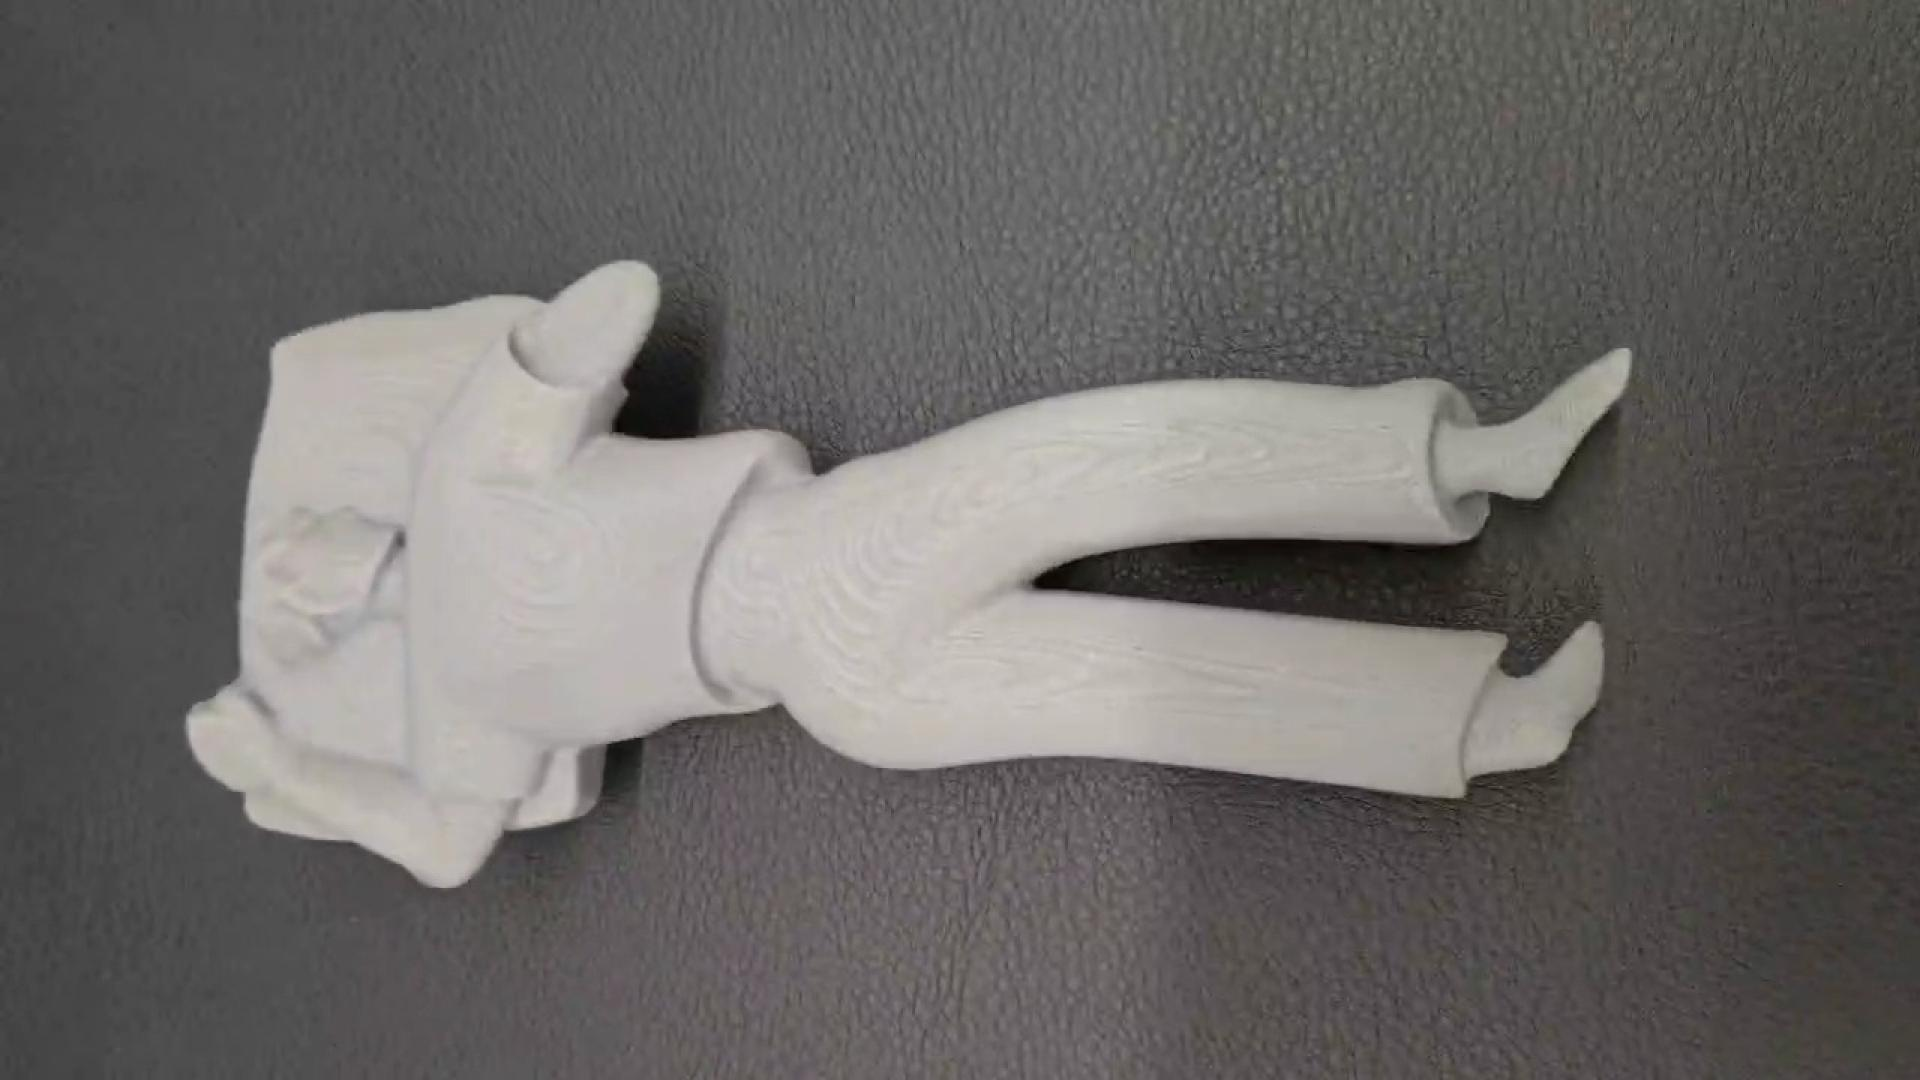Bad-style: (182, 258, 1633, 891)
